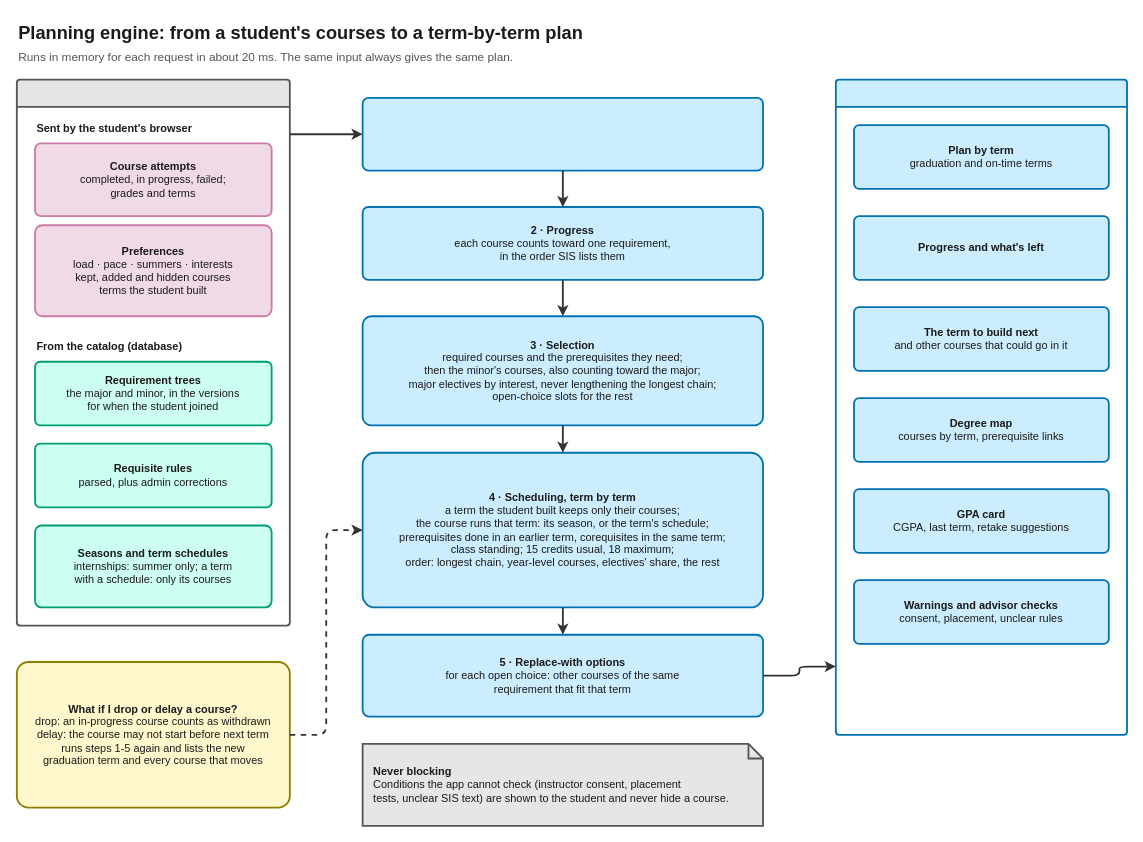
Image size: 1143x842. Some labels were removed from this diagram. The shapes that lost their labels are listed below. From the top down, each one's box as (x1, y1, x2, y2) in pixels, then its label:
(361, 96, 763, 171): 1 · Student record best attempt per course; in-progress courses assumed passed
(15, 78, 290, 626): Inputs
(834, 78, 1127, 735): Response (nothing is stored)
